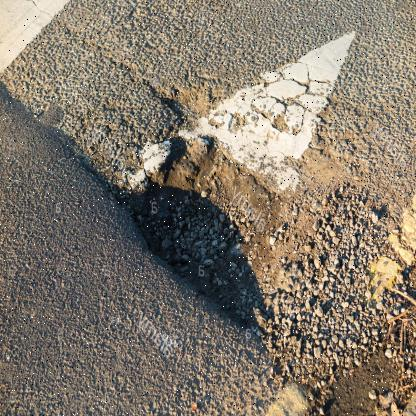damage: (116, 31, 406, 379)
